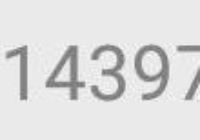TextView: (1, 1, 199, 139)
